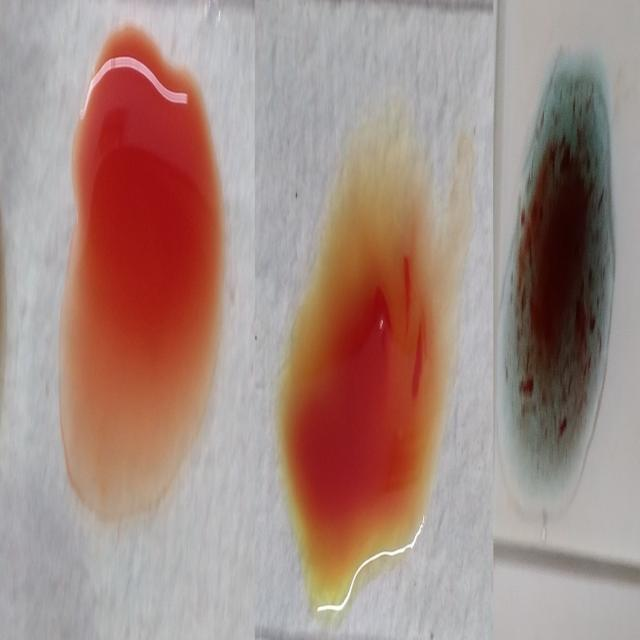A: (505, 36, 616, 480)
